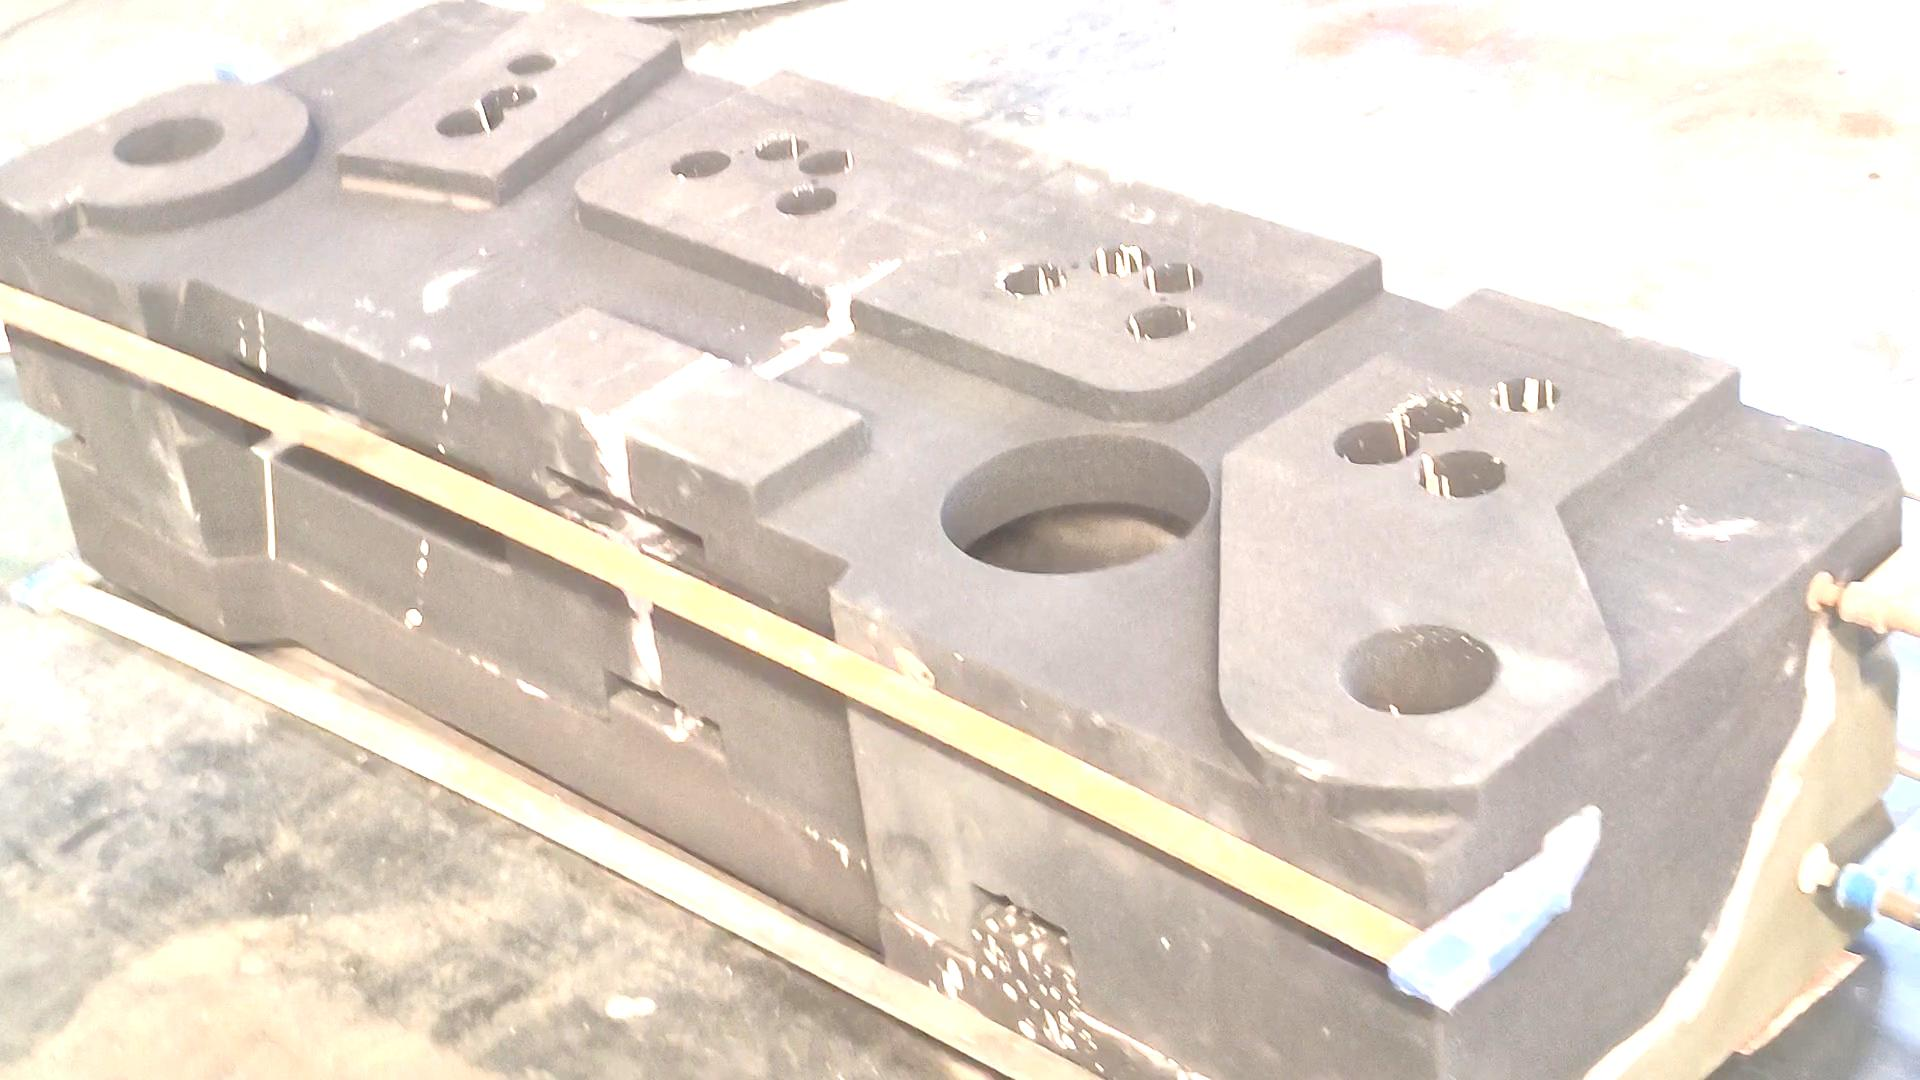pouring hole: (1338, 622, 1502, 713), (112, 115, 224, 166)
